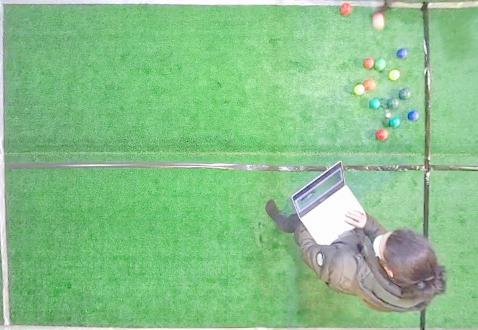blue: (396, 48, 409, 59), (408, 110, 420, 121)
green: (399, 88, 412, 100), (375, 58, 386, 70), (389, 117, 400, 128), (369, 99, 381, 109), (387, 99, 399, 109)
red: (372, 13, 385, 30), (340, 3, 352, 16), (363, 79, 376, 91), (376, 129, 389, 141), (363, 58, 375, 69)
vline: (422, 1, 477, 236), (0, 1, 13, 329), (419, 309, 478, 329)
white: (386, 113, 391, 118)
yellow: (354, 84, 365, 95), (389, 70, 400, 80)
